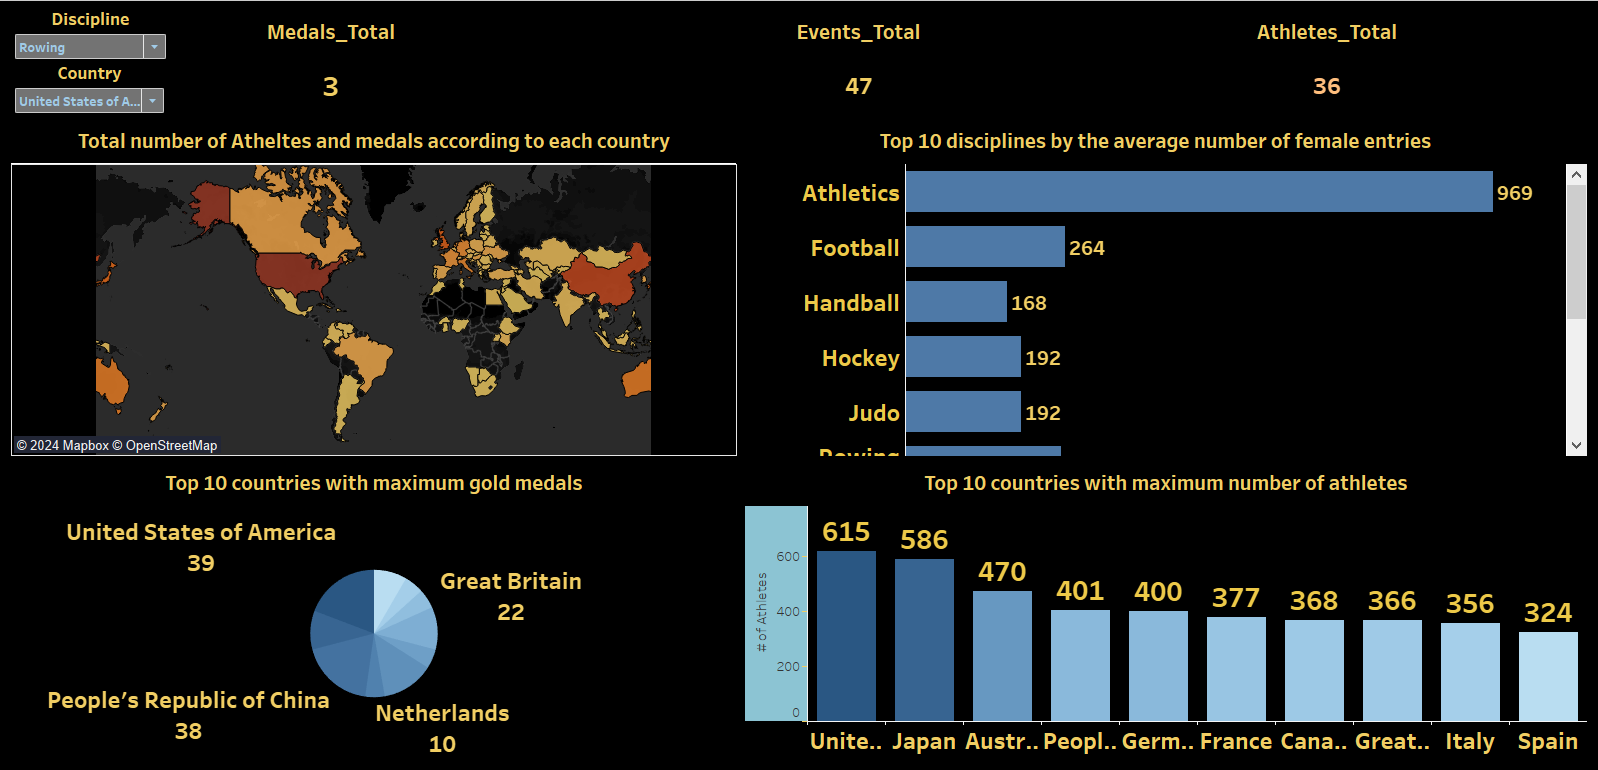

The page's visual inventory and layout, read from the dashboard file:
{"tool":"tableau","page":{"name":"Dashboard 1","canvas":[1000,1000],"units":"permille","ordinal":0},"visuals":[{"type":"filter","title":"Athlete_count","param":"[federated.0ximhe70iz6my71939rk40ondzia].[none:Discipline:nk]","box":[8.4,8,98.1,101.2]},{"type":"worksheet","title":"medal_count","mark":"Automatic","box":[4.8,10.7,405.6,141.1]},{"type":"worksheet","title":"events_total","mark":"Automatic","box":[410.3,10.7,254.7,141.1]},{"type":"worksheet","title":"Athlete_count","mark":"Automatic","box":[665,10.7,330.2,141.1]},{"type":"filter","title":"Athlete_count","param":"[federated.0ximhe70iz6my71939rk40ondzia].[none:Country:nk]","box":[8.4,77.2,96.9,91.9]},{"type":"worksheet","title":"KPI 5","mark":"Multipolygon","box":[4.8,151.8,458.9,443.4]},{"type":"worksheet","title":"KPI 3","mark":"Automatic","rows":["Discipline (EntriesGender)"],"cols":["Female"],"box":[463.6,151.8,531.6,443.4]},{"type":"worksheet","title":"KPI 2","mark":"Pie","box":[4.8,595.2,458.7,394.2]},{"type":"worksheet","title":"KPI1","mark":"Automatic","rows":["PersonName"],"cols":["Country"],"box":[463.5,595.2,531.7,394.2]}]}

Visuals, with their boxes on the dashboard's canvas, which has no fixed pixel size, in thousandths of its width and height (x1, y1, x2, y2). These are canvas units, not pixel positions in the 1598x770 screenshot, which may show the page scaled, cropped or inside an application window:
"Athlete_count" filter: [8,8,106,109]
"medal_count" worksheet: [5,11,410,152]
"events_total" worksheet: [410,11,665,152]
"Athlete_count" worksheet: [665,11,995,152]
"Athlete_count" filter: [8,77,105,169]
"KPI 5" worksheet (Multipolygon marks): [5,152,464,595]
"KPI 3" worksheet: [464,152,995,595]
"KPI 2" worksheet (Pie marks): [5,595,464,989]
"KPI1" worksheet: [464,595,995,989]
